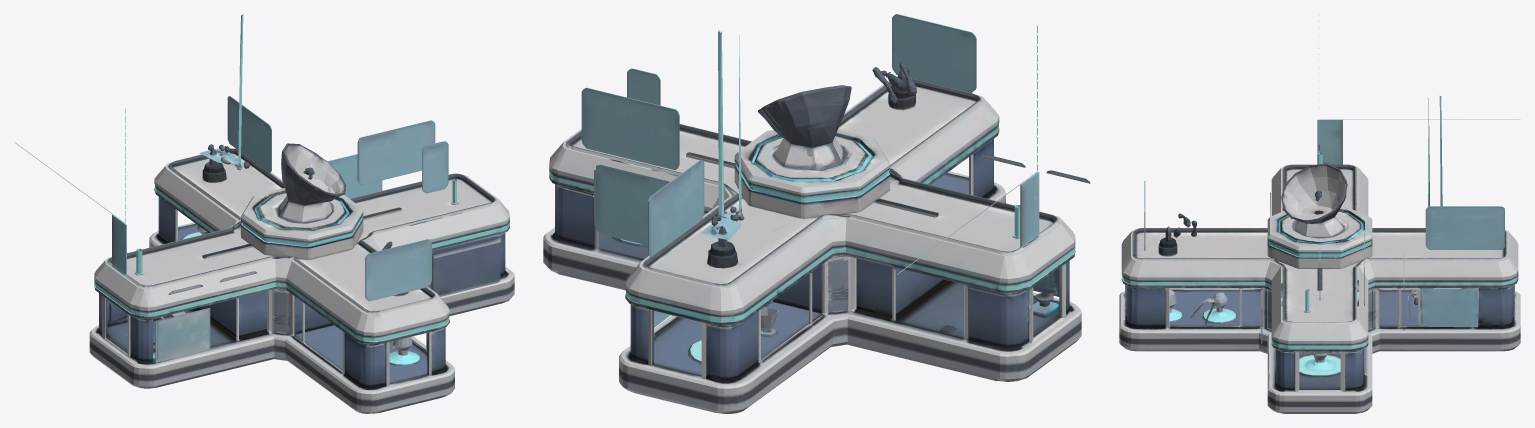
Rendered from tech_center_LOD0.glb.
3 renders of one model, left to right at view 1: azimuth 30°, elevation 25°; view 2: azimuth 150°, elevation 25°; view 3: azimuth 270°, elevation 25°, orthographic. The views are drawn at different scales.
Visible parts, largest first — view 1: tech_center_LOD0; view 2: tech_center_LOD0; view 3: tech_center_LOD0.
Boxes of the visible parts, x1,y1,x2,y2 form: tech_center_LOD0: [14, 14, 514, 413]; tech_center_LOD0: [543, 14, 1090, 413]; tech_center_LOD0: [1119, 34, 1520, 413].
Bounding box in the file's own units: 1 × 0.6536 × 1.
1 material, 1 textured.
